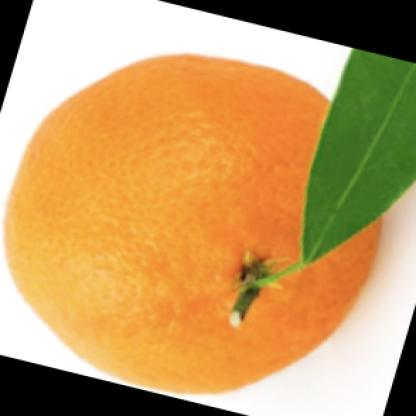fresh: (6, 57, 383, 390)
